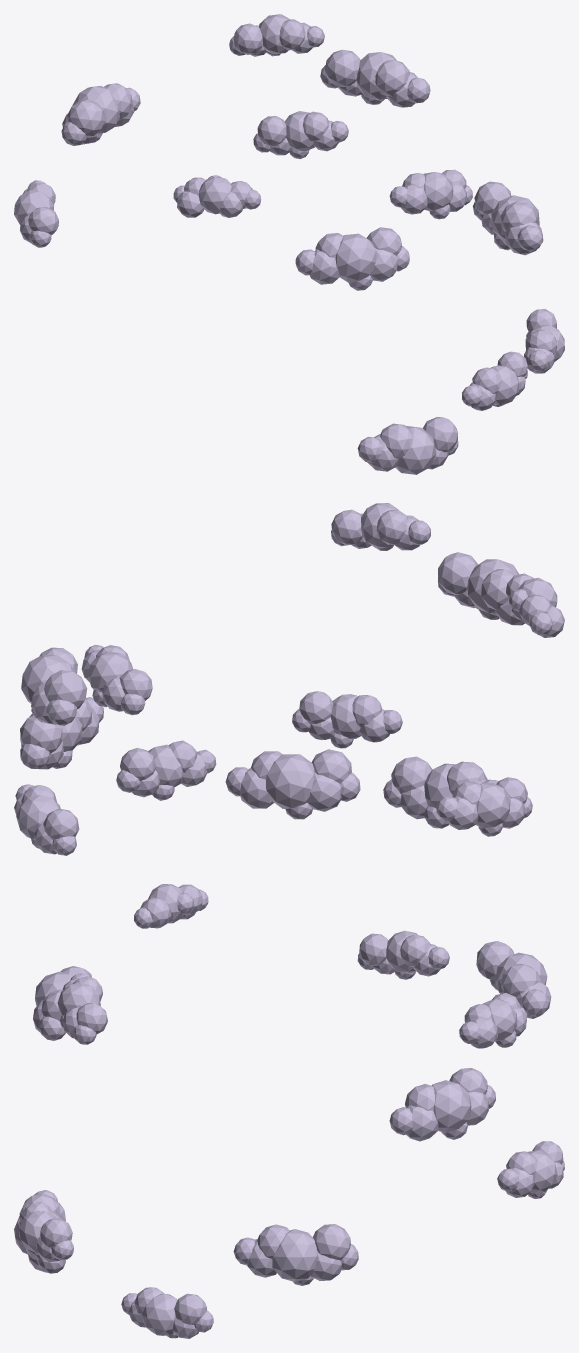
The model's file is clouds_01.gltf.
3 renders of one model, top to bottom at view 1: azimuth 30°, elevation 25°; view 2: azimuth 150°, elevation 25°; view 3: azimuth 270°, elevation 25°, orthographic. The views are drawn at different scales.
Visible parts, largest first — view 1: Icosphere.022, Icosphere.019, Icosphere.028, Icosphere.010, Icosphere.007, Icosphere.005, Icosphere.021, Icosphere.018, Icosphere.016, Icosphere.027, Icosphere.012, Icosphere.023; view 2: Icosphere.007, Icosphere.027, Icosphere.023, Icosphere.028, Icosphere.012, Icosphere.022, Icosphere.019, Icosphere.021, Icosphere.010, Icosphere.018, Icosphere.005, Icosphere.016; view 3: Icosphere.010, Icosphere.019, Icosphere.007, Icosphere.023, Icosphere.012, Icosphere.005, Icosphere.018, Icosphere.021, Icosphere.027, Icosphere.016, Icosphere.022, Icosphere.028.
Part boxes in pixels (x1,y1,x2,y2): Icosphere.022: (295,227,409,290); Icosphere.019: (320,49,430,107); Icosphere.028: (357,417,458,474); Icosphere.010: (472,181,543,255); Icosphere.007: (61,83,140,145); Icosphere.005: (253,111,348,158); Icosphere.021: (389,169,472,219); Icosphere.018: (229,14,324,56); Icosphere.016: (173,175,261,217); Icosphere.027: (462,351,527,410); Icosphere.012: (14,180,58,247); Icosphere.023: (524,309,564,373); Icosphere.007: (225,749,360,819); Icosphere.027: (292,691,402,748); Icosphere.023: (116,740,216,800); Icosphere.028: (383,756,498,828); Icosphere.012: (436,777,532,836); Icosphere.022: (438,552,524,625); Icosphere.019: (21,647,87,725); Icosphere.021: (331,503,430,550); Icosphere.010: (20,697,103,769); Icosphere.018: (81,644,152,715); Icosphere.005: (14,784,79,855); Icosphere.016: (506,573,564,637); Icosphere.010: (233,1224,358,1285); Icosphere.019: (389,1068,495,1141); Icosphere.007: (476,941,551,1018); Icosphere.023: (121,1287,213,1338); Icosphere.012: (357,930,449,979); Icosphere.005: (497,1141,564,1198); Icosphere.018: (459,993,527,1048); Icosphere.021: (57,973,107,1044); Icosphere.027: (19,1202,73,1262); Icosphere.016: (134,884,208,928); Icosphere.022: (33,966,91,1040); Icosphere.028: (14,1190,65,1273).
Bounding box in the file's own units: 3.36 × 1.96 × 3.2.
